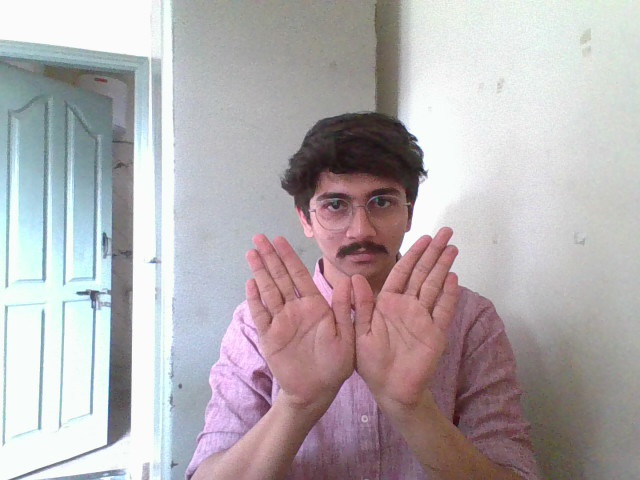hug: (241, 228, 467, 397)
